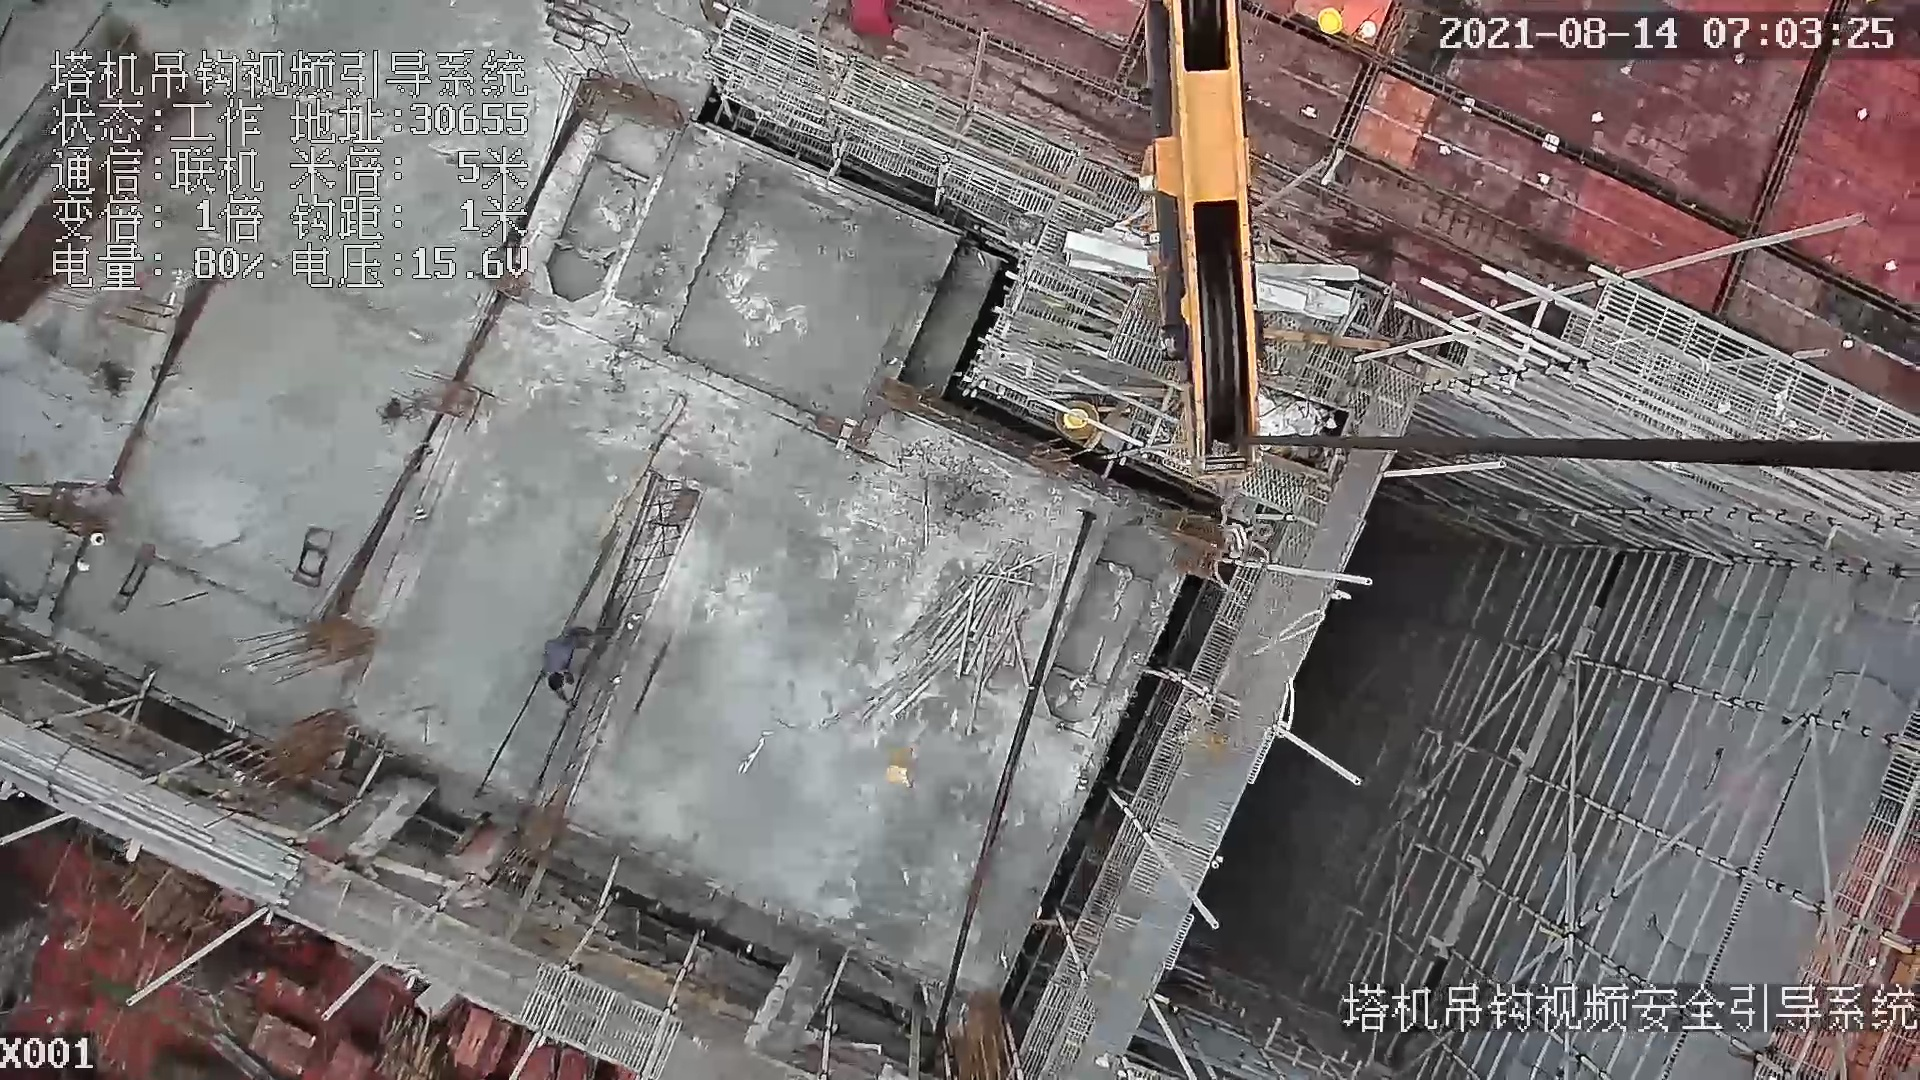helmet: (1317, 5, 1342, 39)
hook: (1118, 1, 1274, 477)
person: (544, 621, 606, 713)
